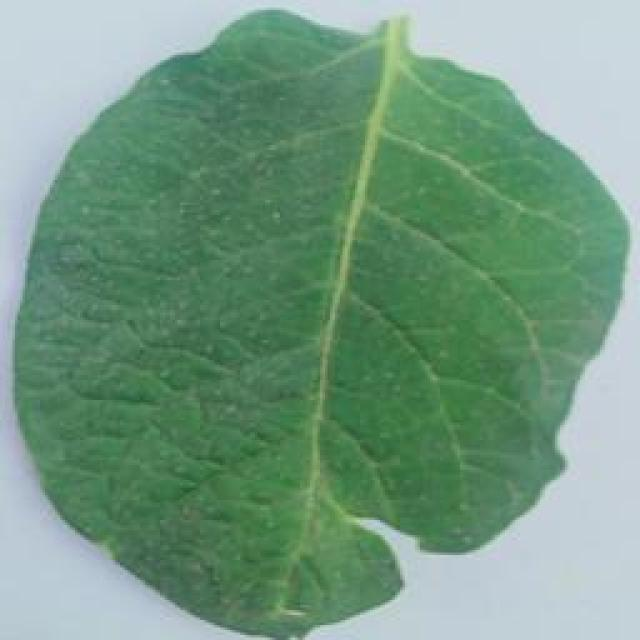Potato_Healthy: (12, 10, 636, 634)
